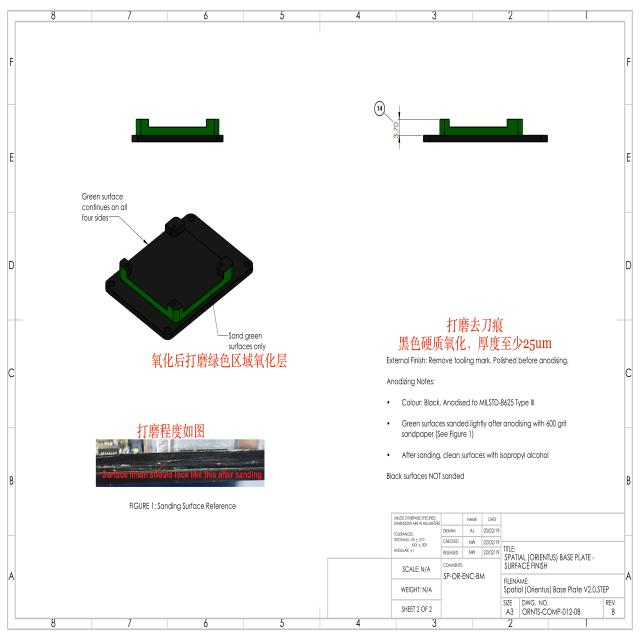dimension: (392, 120, 398, 139)
